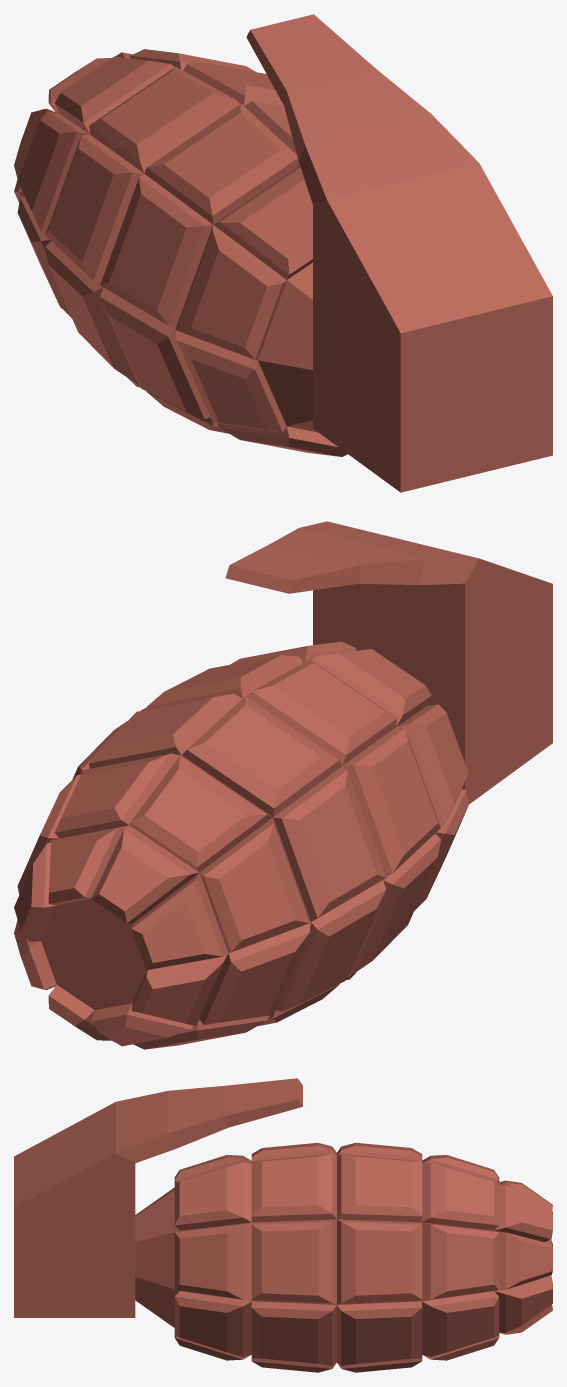
The picture shows the model from 3 angles, top to bottom: view 1: azimuth 30°, elevation 25°; view 2: azimuth 150°, elevation 25°; view 3: azimuth 270°, elevation 25°; orthographic projection. The views are drawn at different scales.
Visible parts, largest first — view 1: 球体; view 2: 球体; view 3: 球体.
Part boxes in pixels (x1,y1,x2,y2): 球体: (14, 14, 552, 492); 球体: (14, 521, 552, 1049); 球体: (14, 1078, 552, 1372).
Bounding box in the file's own units: 0.1685 × 0.2204 × 0.3861.
